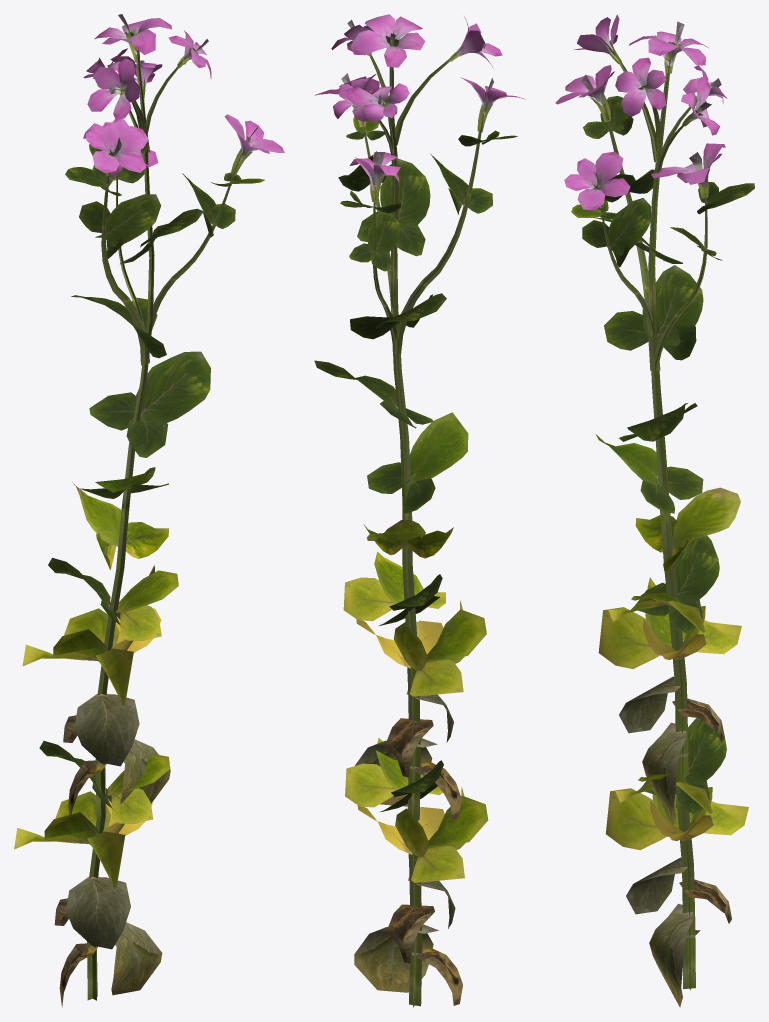
The model's file is Periwinkle_bush_long_pink.glb.
3 views of the same model, side by side, from view 1: azimuth 30°, elevation 25°; view 2: azimuth 150°, elevation 25°; view 3: azimuth 270°, elevation 25° (orthographic).
Visible parts, largest first — view 1: _b868_Var1_LOD1.2; view 2: _b868_Var1_LOD1.2; view 3: _b868_Var1_LOD1.2.
Part boxes in pixels (bbox=[...]): _b868_Var1_LOD1.2: bbox=[14, 14, 284, 1007]; _b868_Var1_LOD1.2: bbox=[314, 14, 525, 1007]; _b868_Var1_LOD1.2: bbox=[555, 14, 754, 1007].
Bounding box in the file's own units: 0.7607 × 3.45 × 0.6398.
1 material, 1 textured.
